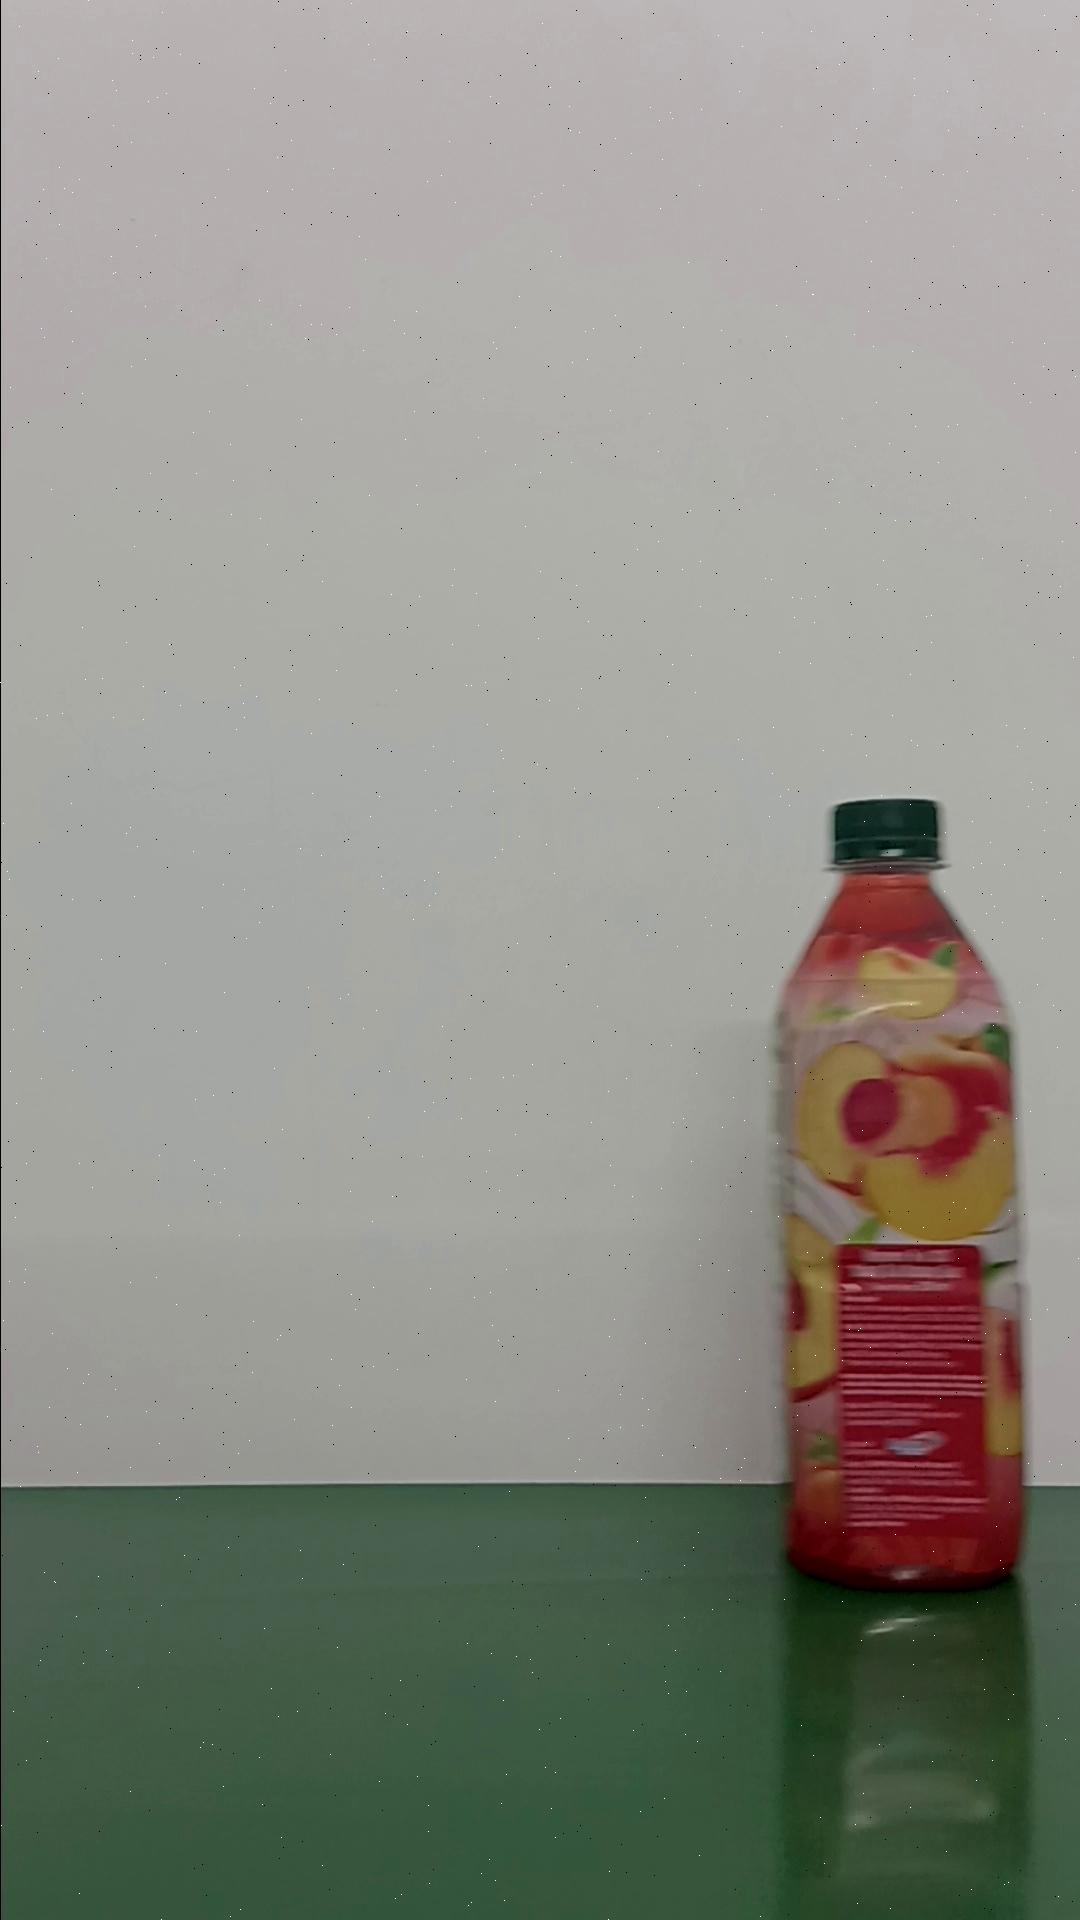khong loi: (770, 794, 1027, 1592)
